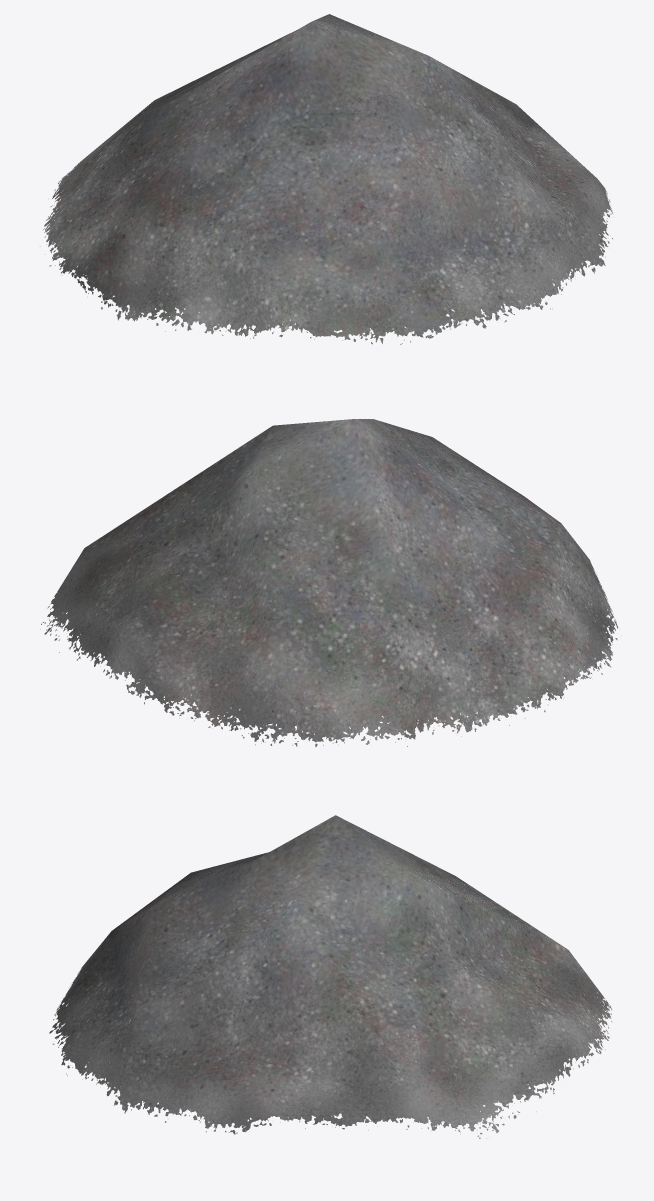
Rendered from Debu.fbx.
3 views of the same model, one above another, from view 1: azimuth 30°, elevation 25°; view 2: azimuth 150°, elevation 25°; view 3: azimuth 270°, elevation 25° (orthographic).
Visible parts, largest first — view 1: Ash_low; view 2: Ash_low; view 3: Ash_low.
Boxes of the visible parts, x1=… form: Ash_low: x1=40, y1=14, x2=612, y2=344; Ash_low: x1=40, y1=419, x2=618, y2=746; Ash_low: x1=49, y1=815, x2=612, y2=1138.
Size of the model in its own units: 198 by 82.83 by 200.
1 material, 1 textured.
